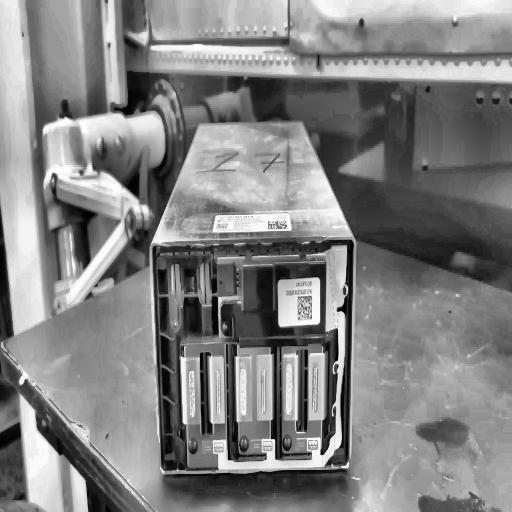battery_module: (149, 119, 356, 476)
